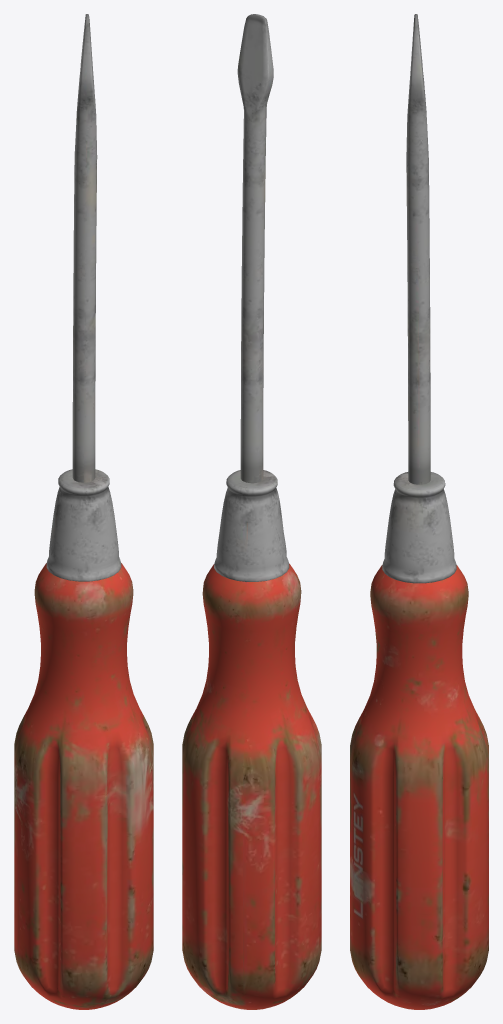
Rendered from screwdriver.1f3ba1ce.glb.
3 renders of one model, left to right at view 1: azimuth 90°, elevation 25°; view 2: azimuth 150°, elevation 25°; view 3: azimuth 270°, elevation 25°, orthographic.
Parts seen in each view (by area): view 1: screwdriver; view 2: screwdriver; view 3: screwdriver.
Boxes of the visible parts, x1=… form: screwdriver: x1=14, y1=14, x2=153, y2=1009; screwdriver: x1=182, y1=14, x2=321, y2=1009; screwdriver: x1=350, y1=14, x2=488, y2=1009.
Size of the model in its own units: 0.1298 by 1 by 0.1278.
Materials: 1 (1 with a texture image).
